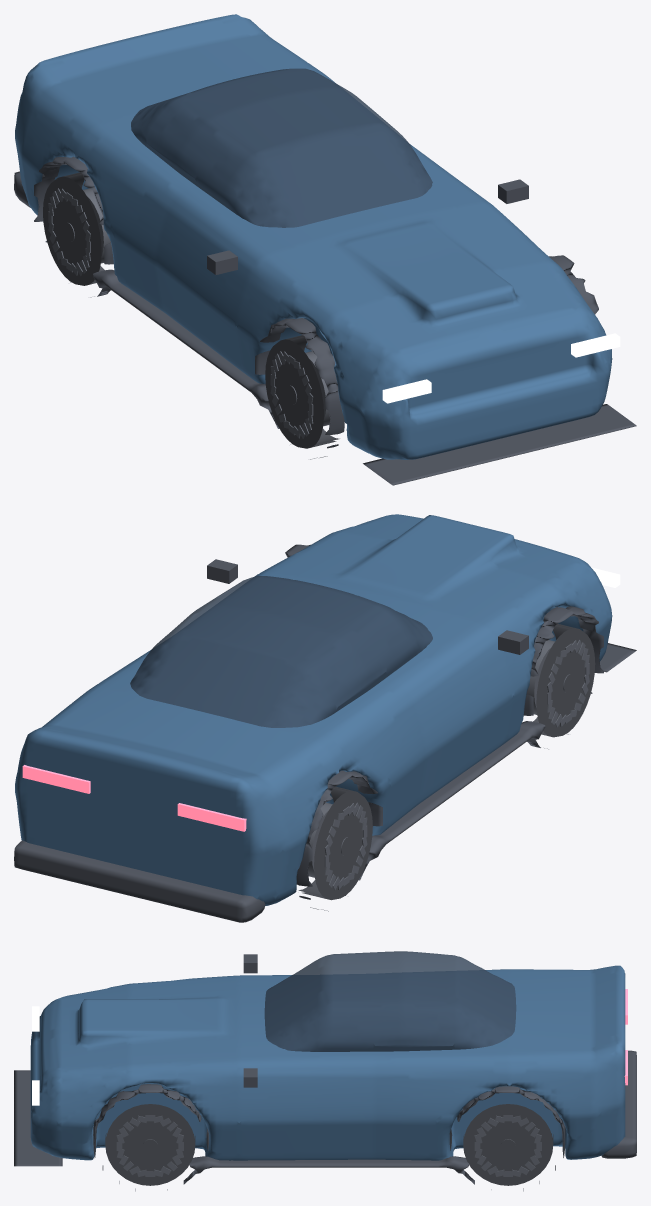
File: corsair.glb
3 views of the same model, one above another, from view 1: azimuth 30°, elevation 25°; view 2: azimuth 150°, elevation 25°; view 3: azimuth 270°, elevation 25° (orthographic). The views are drawn at different scales.
Parts seen in each view (by area): view 1: Bodywork, CanopyGlass, CarbonAero (×2), TireRubber, ForgedRim, HeadlightLED; view 2: Bodywork, CanopyGlass, CarbonAero (×2), TireRubber, ForgedRim, TaillightLED; view 3: Bodywork, CanopyGlass, TireRubber, CarbonAero (×2), ForgedRim, HeadlightLED.
Boxes of the visible parts, x1,y1,x2,y2 form: Bodywork: (15, 14, 612, 459); CanopyGlass: (131, 68, 432, 227); CarbonAero (×2): (14, 156, 636, 485); TireRubber: (43, 172, 339, 448); ForgedRim: (48, 188, 330, 438); HeadlightLED: (382, 333, 620, 403); Bodywork: (15, 514, 612, 905); CanopyGlass: (130, 575, 432, 727); CarbonAero (×2): (14, 544, 636, 922); TireRubber: (298, 624, 595, 900); ForgedRim: (308, 640, 589, 890); TaillightLED: (22, 765, 246, 831); Bodywork: (30, 965, 625, 1160); CanopyGlass: (264, 951, 516, 1051); TireRubber: (105, 1104, 553, 1185); CarbonAero (×2): (14, 954, 636, 1191); ForgedRim: (116, 1115, 541, 1176); HeadlightLED: (32, 1006, 39, 1105).
Bounding box in the file's own units: 2.26 × 1.44 × 4.84.
